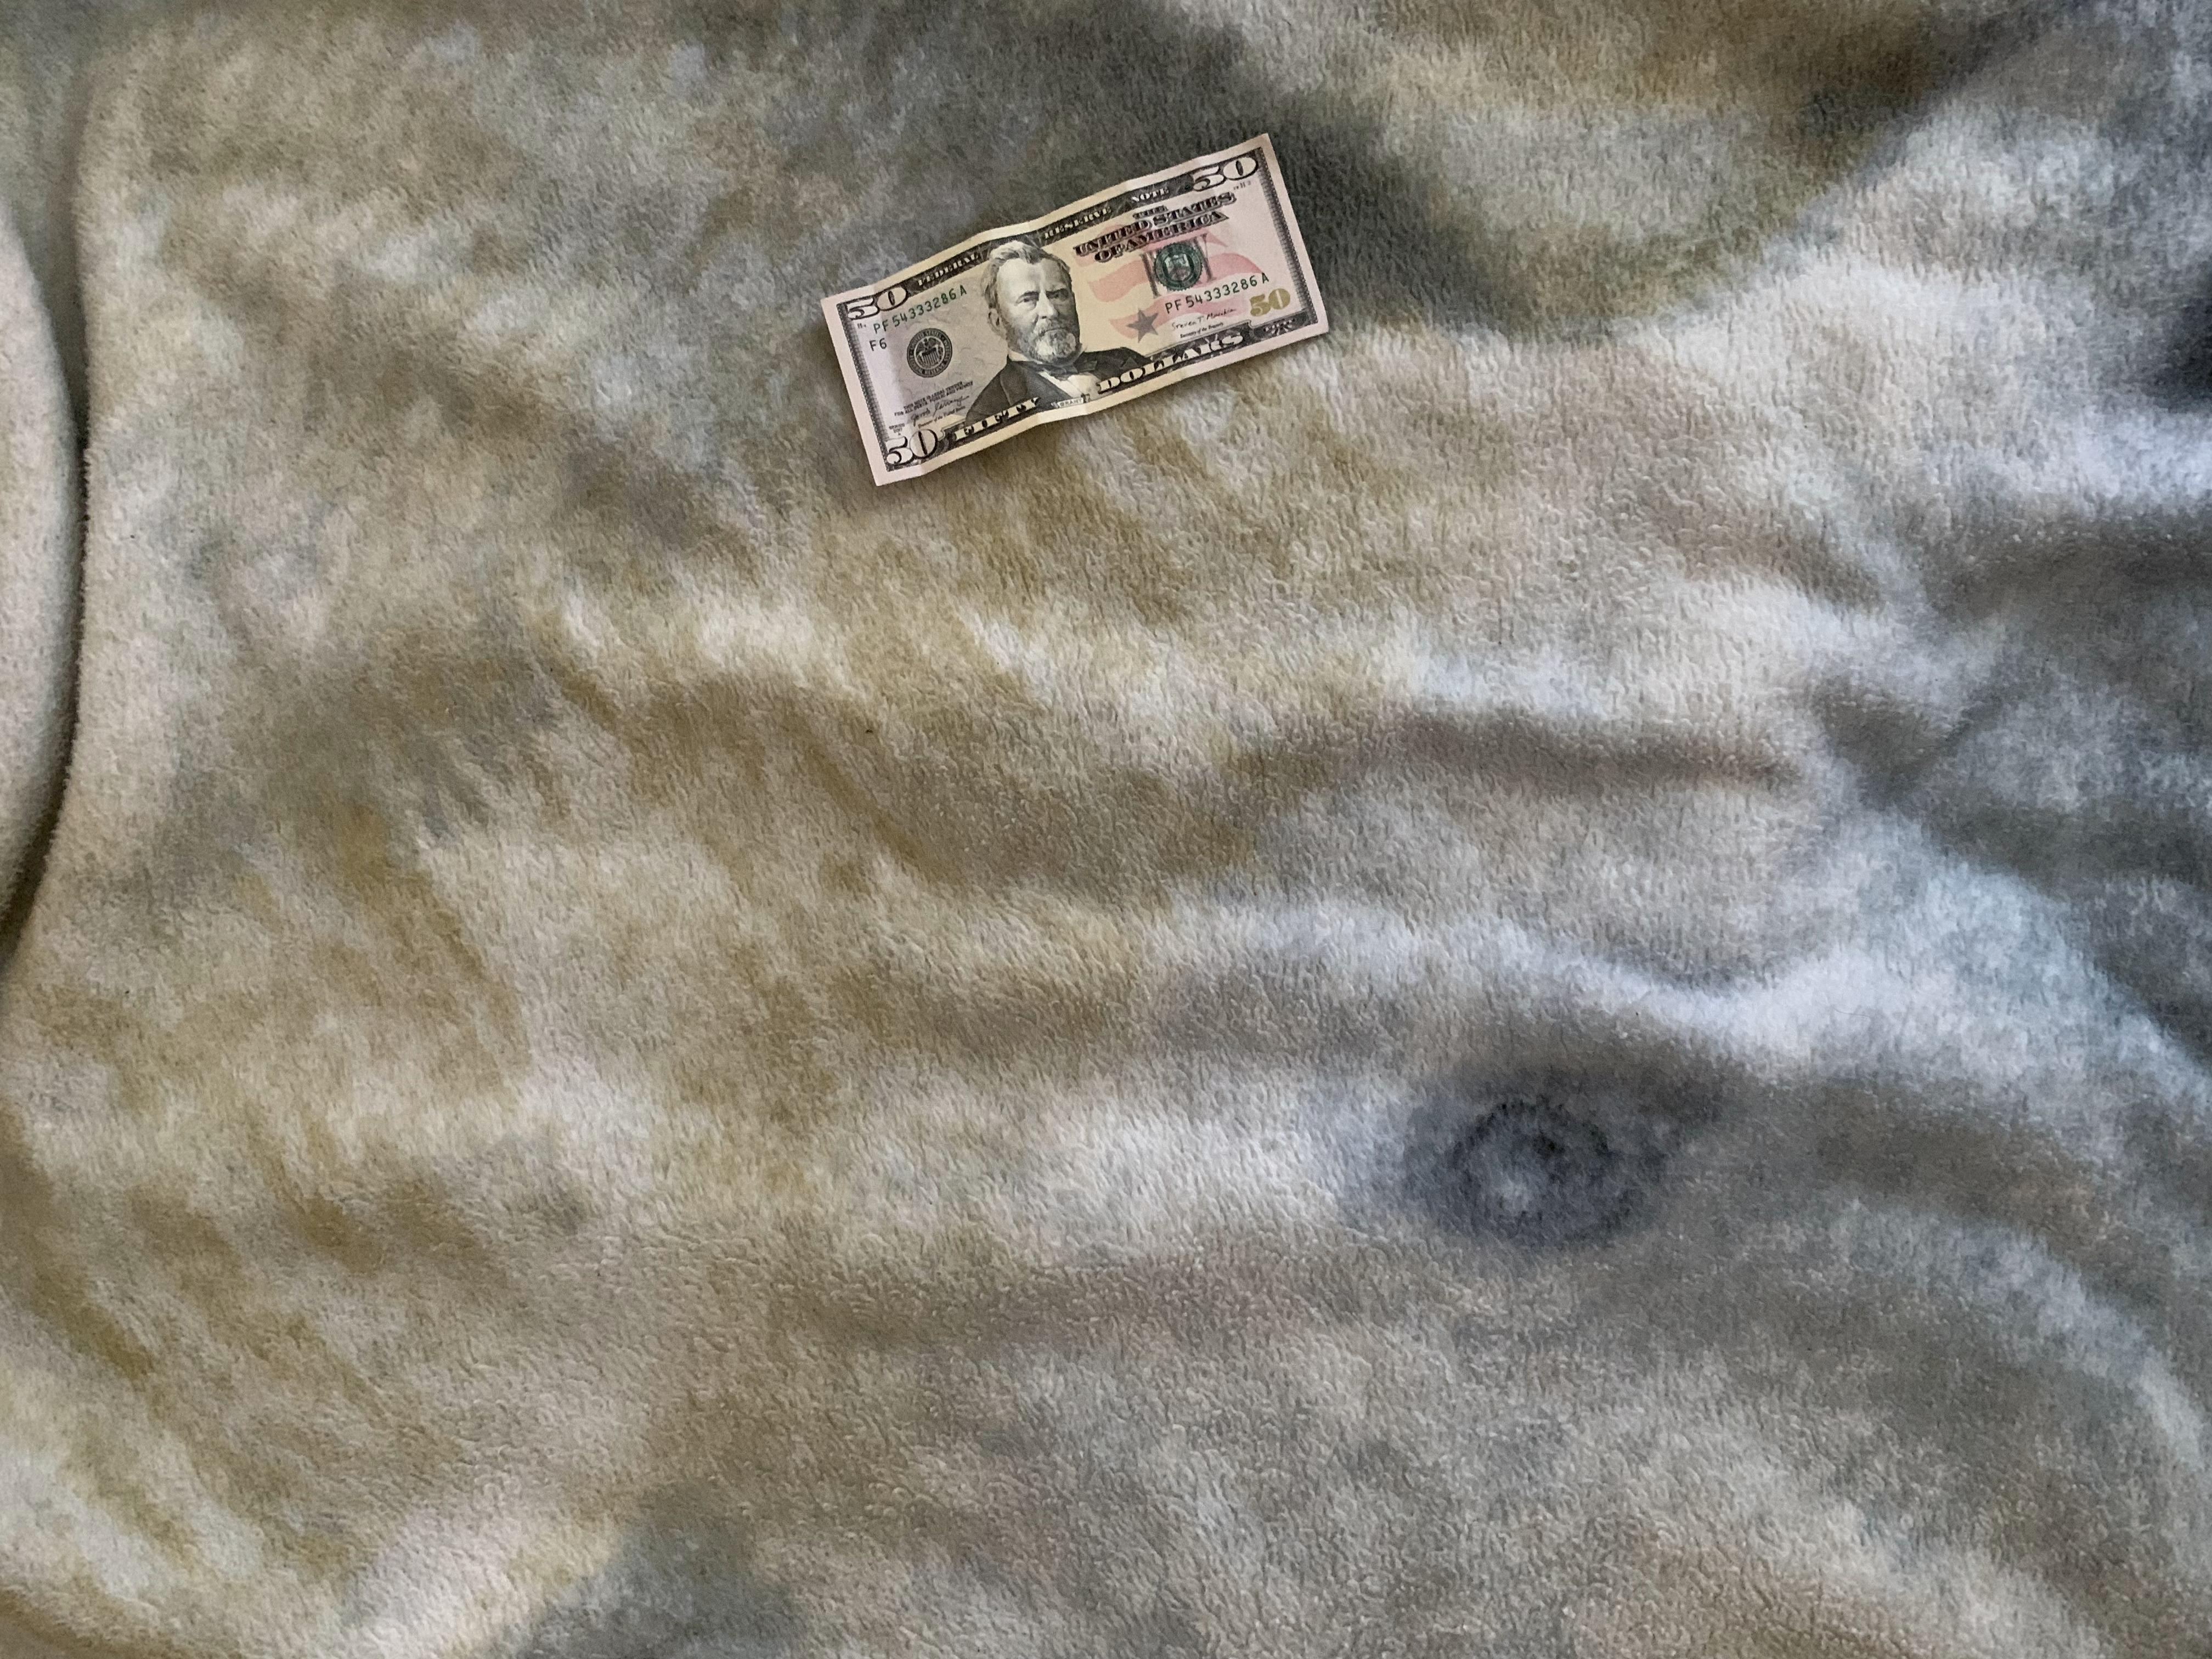FiftyBill: (813, 117, 1334, 490)
